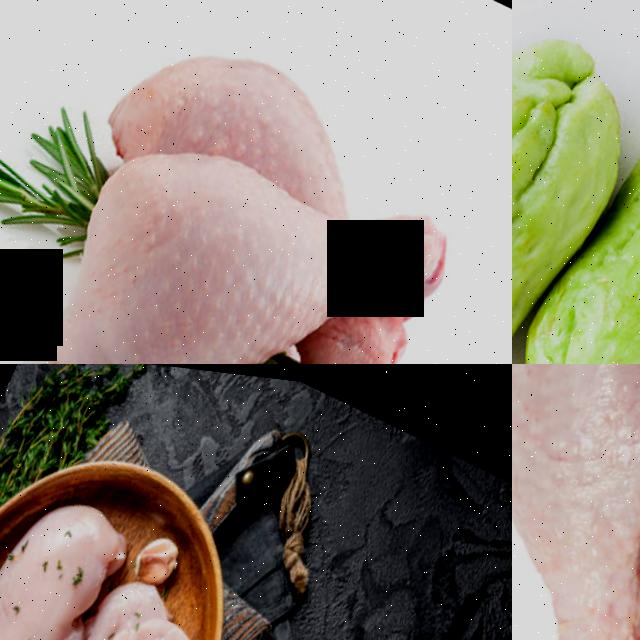chayote: (512, 0, 640, 364), (512, 31, 640, 364)
chicken breast: (0, 532, 232, 640), (0, 473, 135, 640)
chicken thigh: (18, 65, 480, 364), (512, 364, 640, 640)
